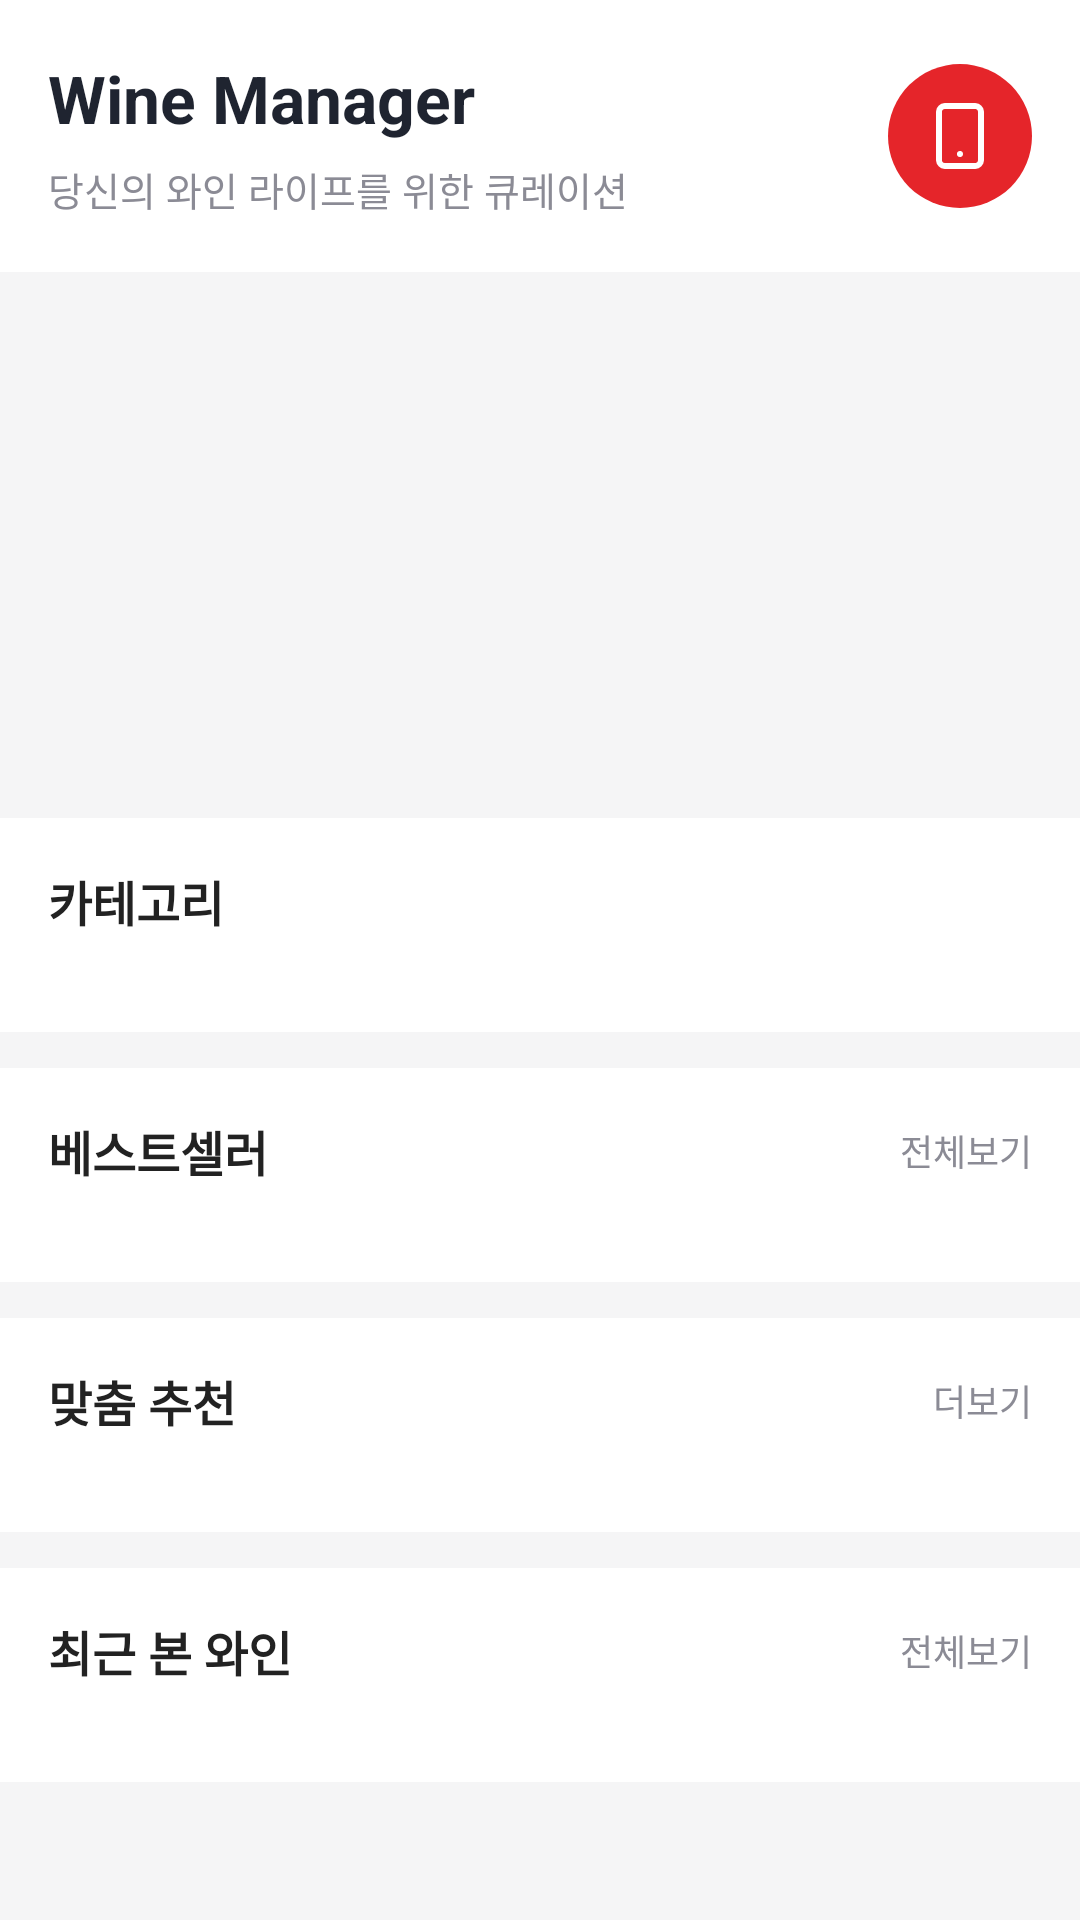

Point at icon controls on the screen. Image size 1080x1920, points as (x=x, y=y).
smartphone: (x=960, y=136)
